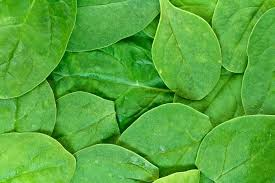spinach: (54, 41, 183, 145), (118, 97, 213, 172), (147, 18, 219, 106)
